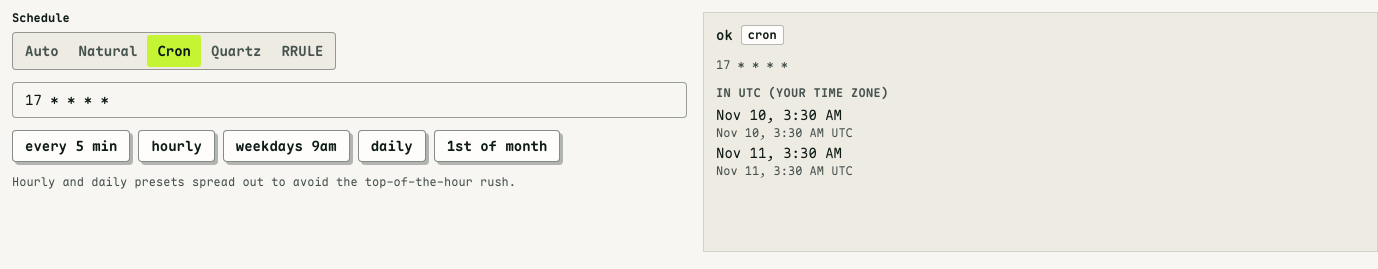
syntax switching with the preview › reports the schedule valid after an exact conversion, and invalid after one the server rejects
Click the radio button labelled "Natural". click: point(108, 51)
box: [79, 42, 137, 60]
Wait 210 ms
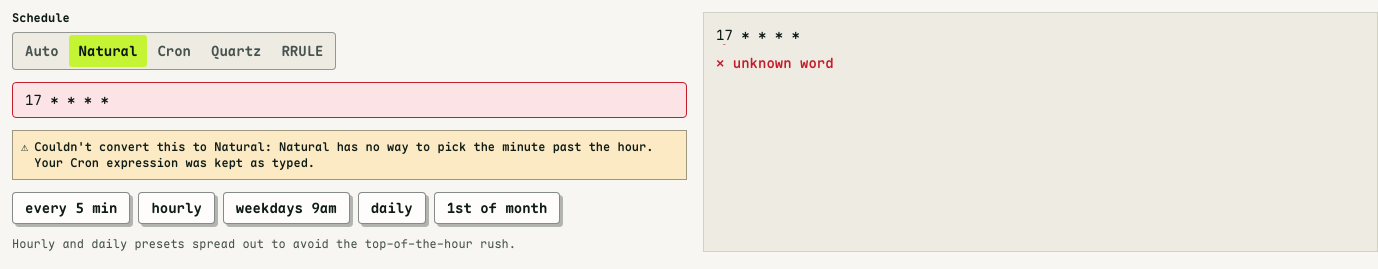
Now the message with test id "schedule-notice" shows "Couldn't convert this to Natural", box [34, 139, 653, 171]
Now the element with test id "schedule-problem" is shown, box [716, 26, 834, 72]
Click the radio button labelled "Cron". click: point(174, 51)
box: [157, 42, 191, 60]
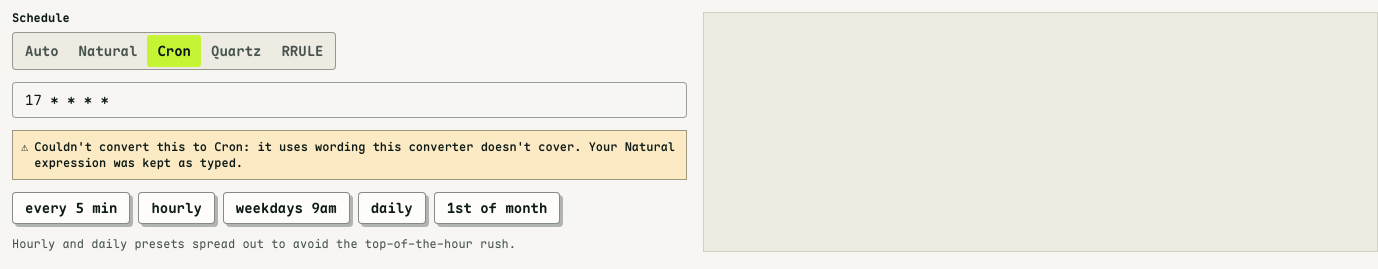
Replace the text in the field labelled "Schedule" with "0 * * * *". click: point(350, 100)
box: [12, 82, 687, 118]
Wait 210 ms
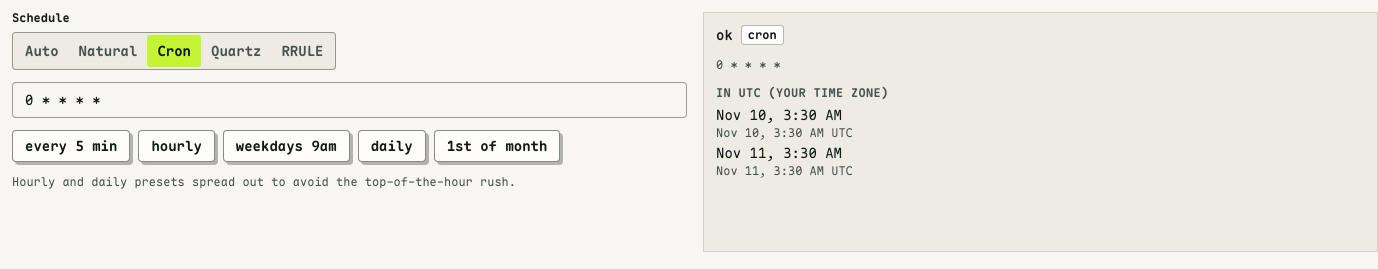
Now the message with test id "schedule-notice" is gone
